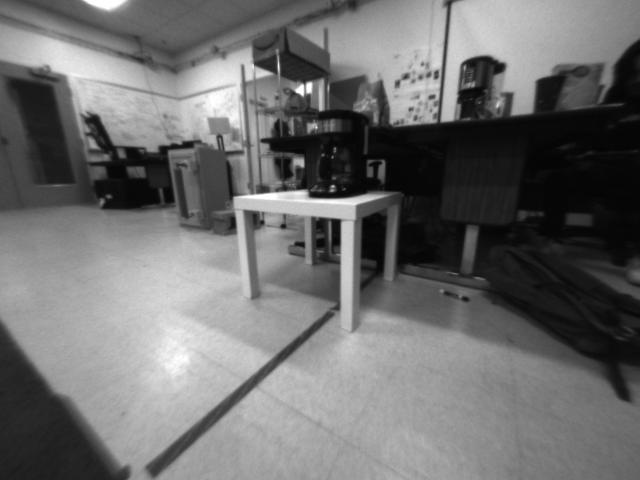coffee_pot: (306, 109, 371, 201)
